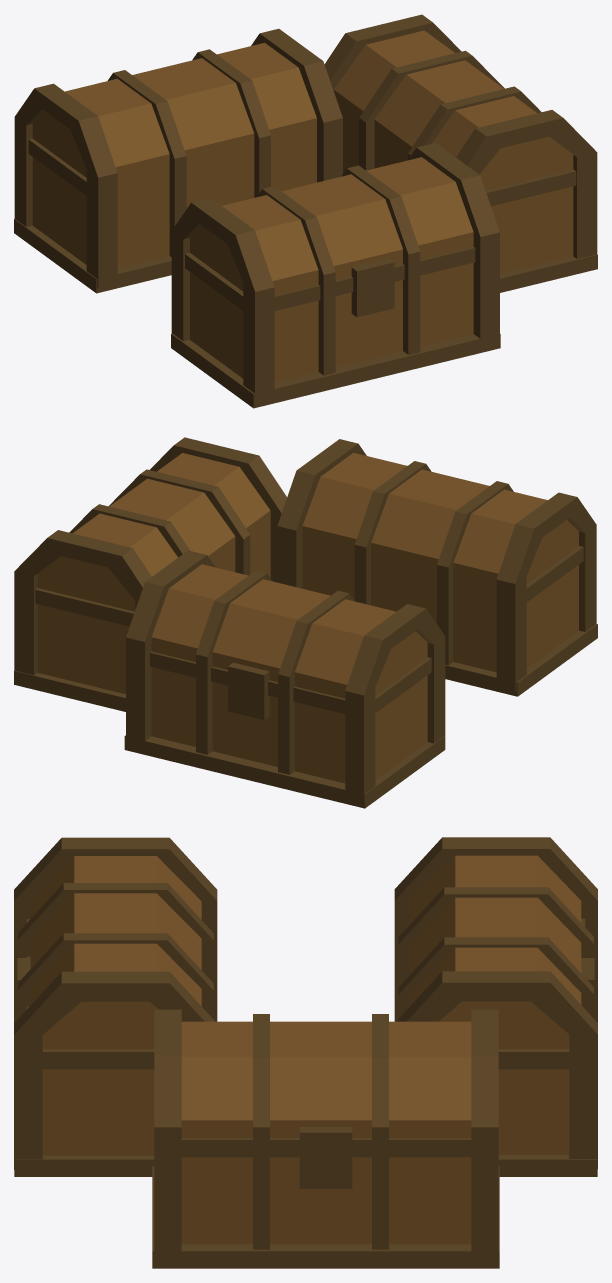
Rendered from gift.fbx.
3 renders of one model, top to bottom at view 1: azimuth 30°, elevation 25°; view 2: azimuth 150°, elevation 25°; view 3: azimuth 270°, elevation 25°, orthographic. The views are drawn at different scales.
Visible parts, largest first — view 1: polySurface250; view 2: polySurface250; view 3: polySurface250.
Boxes of the visible parts, x1,y1,x2,y2 form: polySurface250: (14, 14, 597, 408); polySurface250: (14, 437, 597, 808); polySurface250: (14, 837, 597, 1268).
Size of the model in its own units: 43.59 by 16.49 by 45.11.
1 material, 1 textured.
